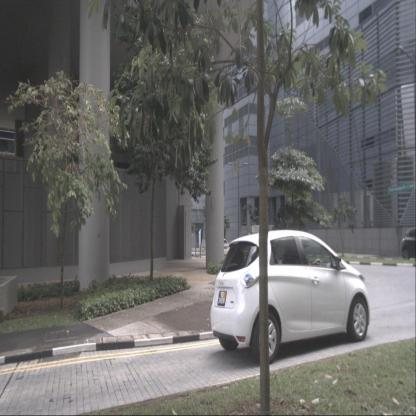vehicle-car: (210, 230, 370, 364), (401, 227, 416, 263), (213, 238, 230, 258)
